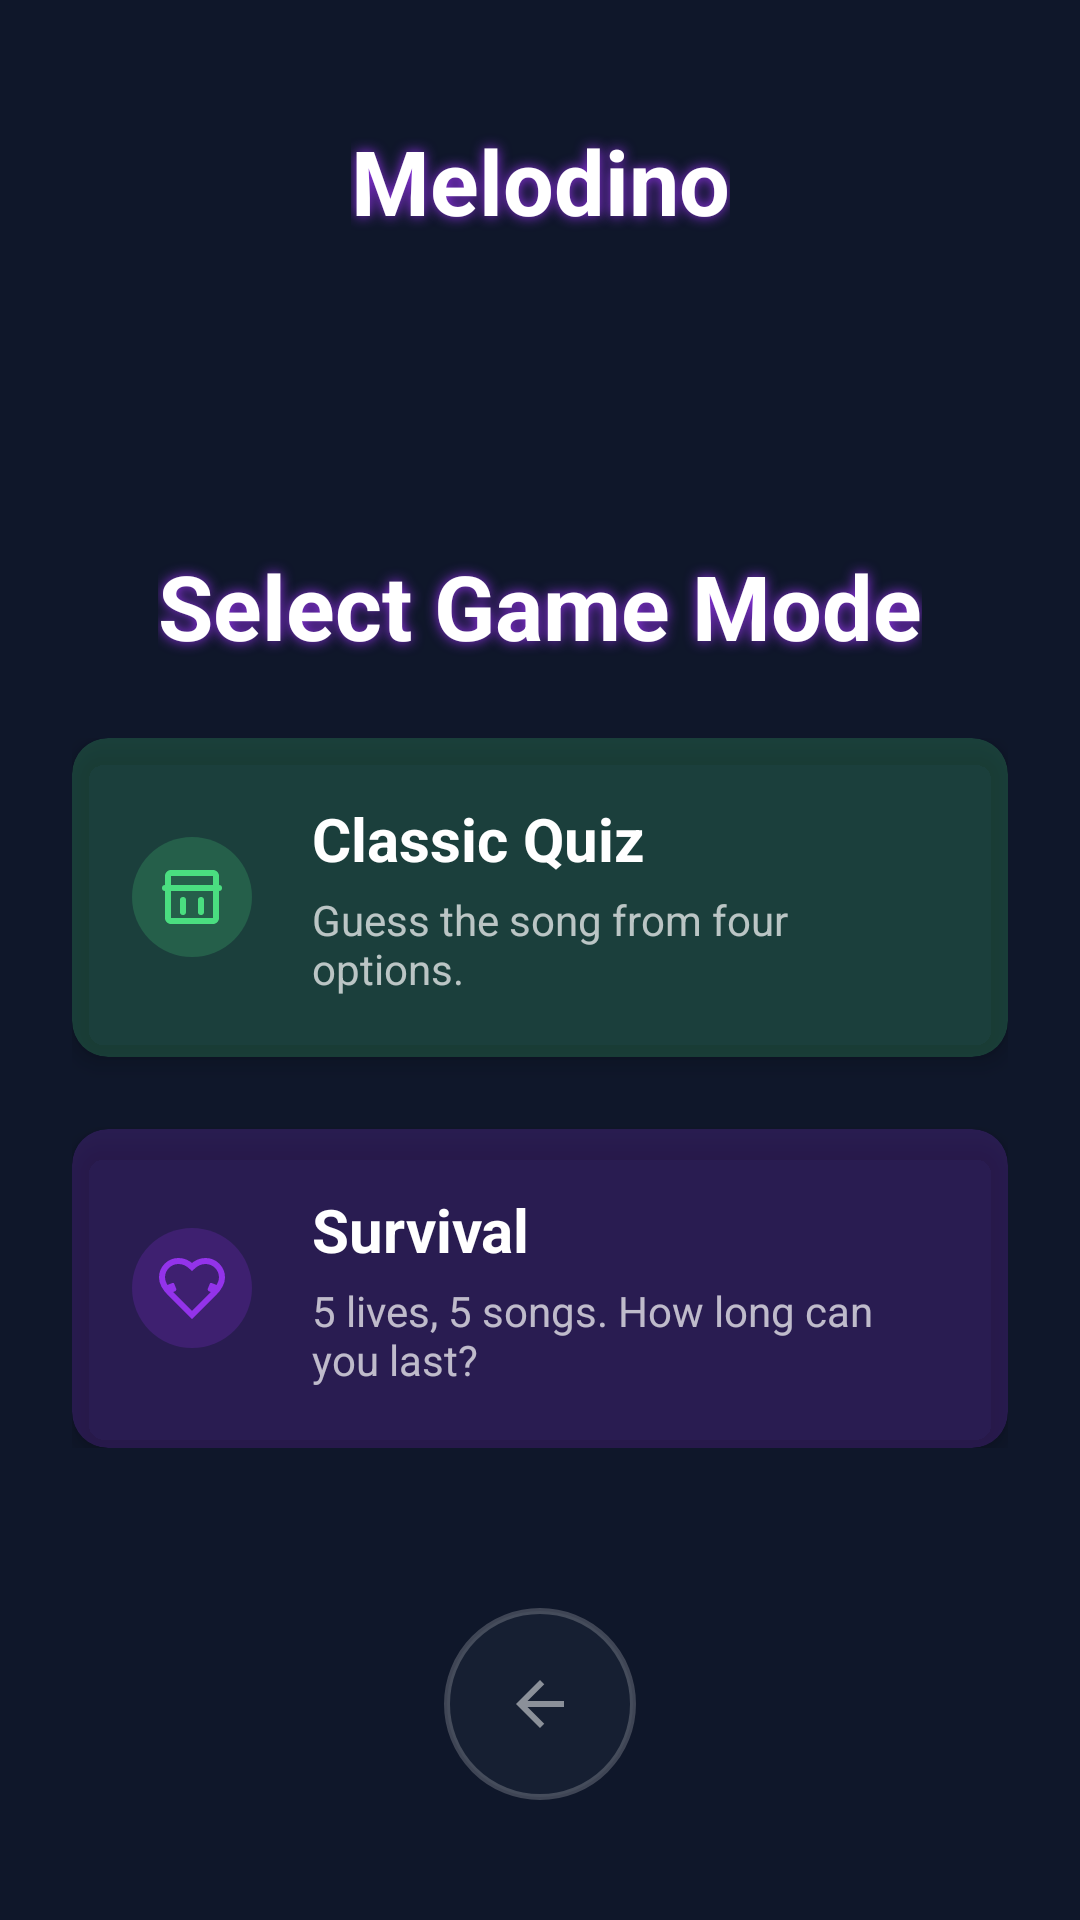

Where icons sit on this 1080px×1920px app screen, as (x1, y1, x2, y2):
Back: (444, 1608, 636, 1800)
